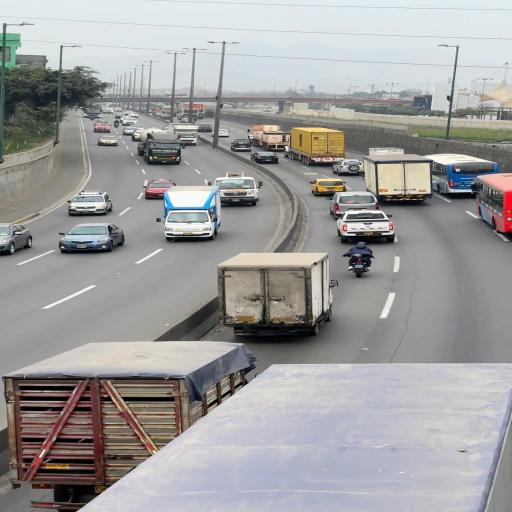auto: (58, 222, 125, 252), (335, 210, 394, 240), (212, 172, 262, 206), (329, 190, 380, 220), (66, 190, 112, 216), (0, 223, 33, 254), (144, 179, 179, 199), (309, 178, 346, 196), (230, 140, 252, 152), (97, 134, 119, 146), (122, 125, 143, 137), (93, 122, 112, 132), (121, 117, 137, 126), (197, 124, 213, 132)
bus: (471, 173, 510, 236), (449, 163, 488, 189)
camion: (215, 254, 333, 334), (158, 184, 224, 242), (360, 153, 434, 203), (289, 127, 346, 165), (138, 131, 184, 163), (249, 124, 290, 155), (166, 123, 200, 146), (160, 106, 184, 119), (367, 147, 403, 155), (83, 107, 102, 119), (124, 110, 137, 118)
moto: (345, 236, 379, 267)
